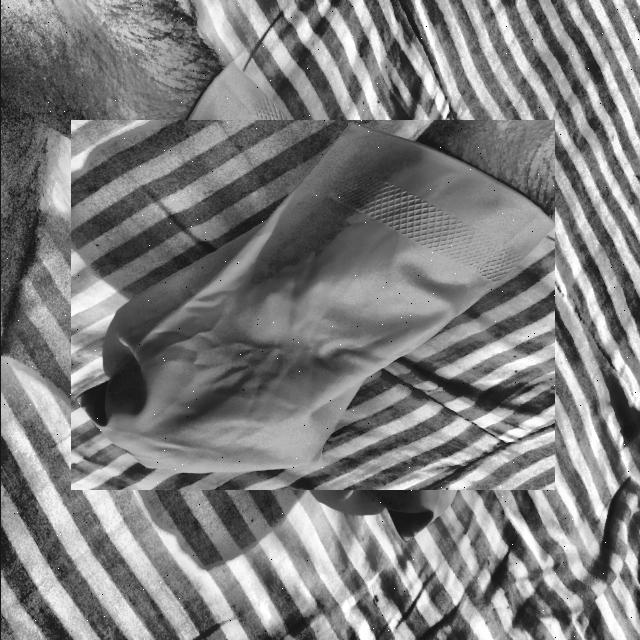gloved: (98, 91, 525, 519)
